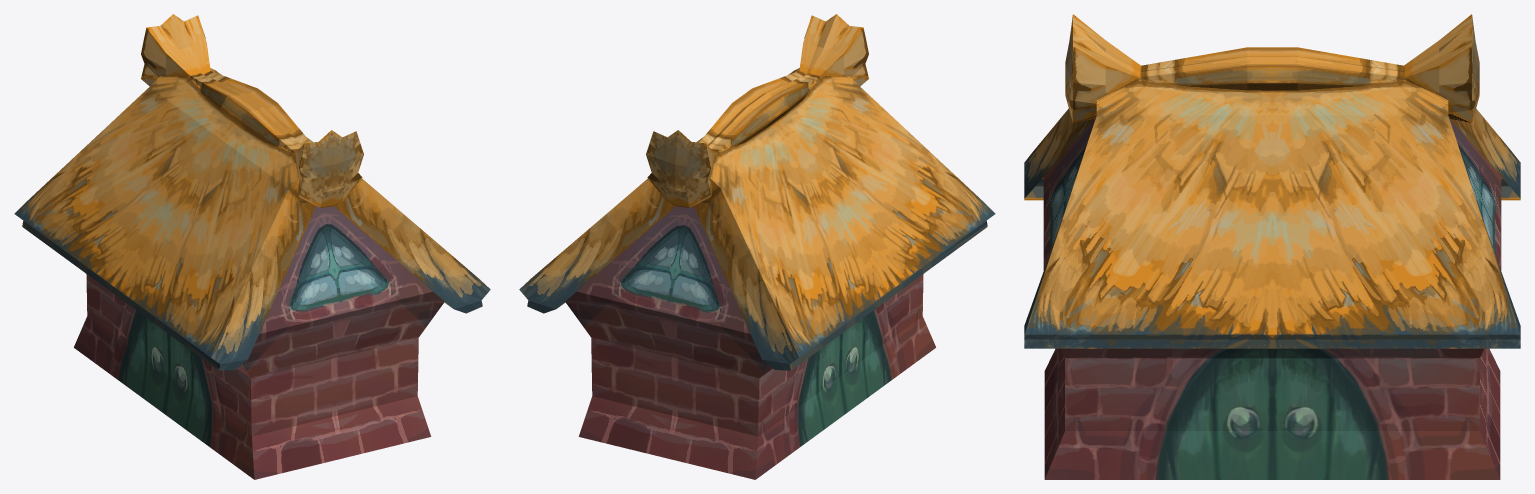
Rendered from Farm_Textured.fbx.
3 renders of one model, left to right at view 1: azimuth 30°, elevation 25°; view 2: azimuth 150°, elevation 25°; view 3: azimuth 270°, elevation 25°, orthographic. The views are drawn at different scales.
Visible parts, largest first — view 1: Farm_Roof, Farm_Base; view 2: Farm_Roof, Farm_Base; view 3: Farm_Roof, Farm_Base.
Boxes of the visible parts, x1,y1,x2,y2 form: Farm_Roof: (14, 14, 490, 370); Farm_Base: (74, 206, 444, 479); Farm_Roof: (519, 14, 995, 370); Farm_Base: (565, 206, 935, 479); Farm_Roof: (1024, 14, 1520, 348); Farm_Base: (1043, 119, 1501, 479).
Bounding box in the file's own units: 164 × 180 × 200.
2 materials, 2 textured.
